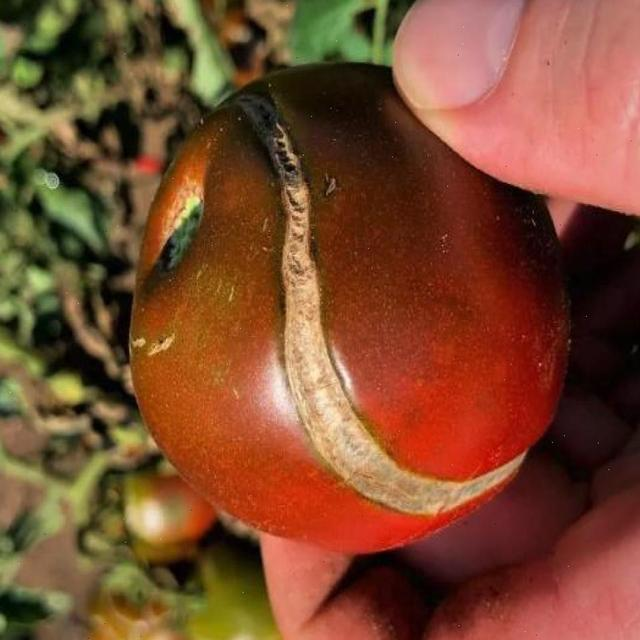Cracking Fruit: (148, 60, 350, 351)
